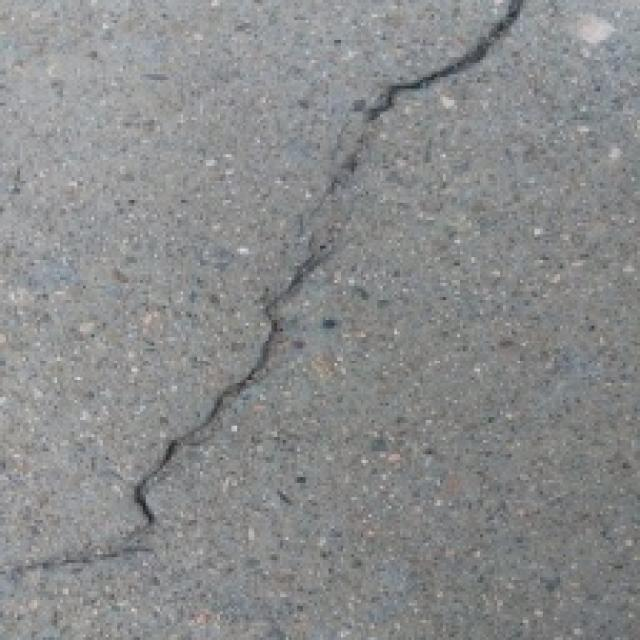crack: (0, 4, 546, 600)
